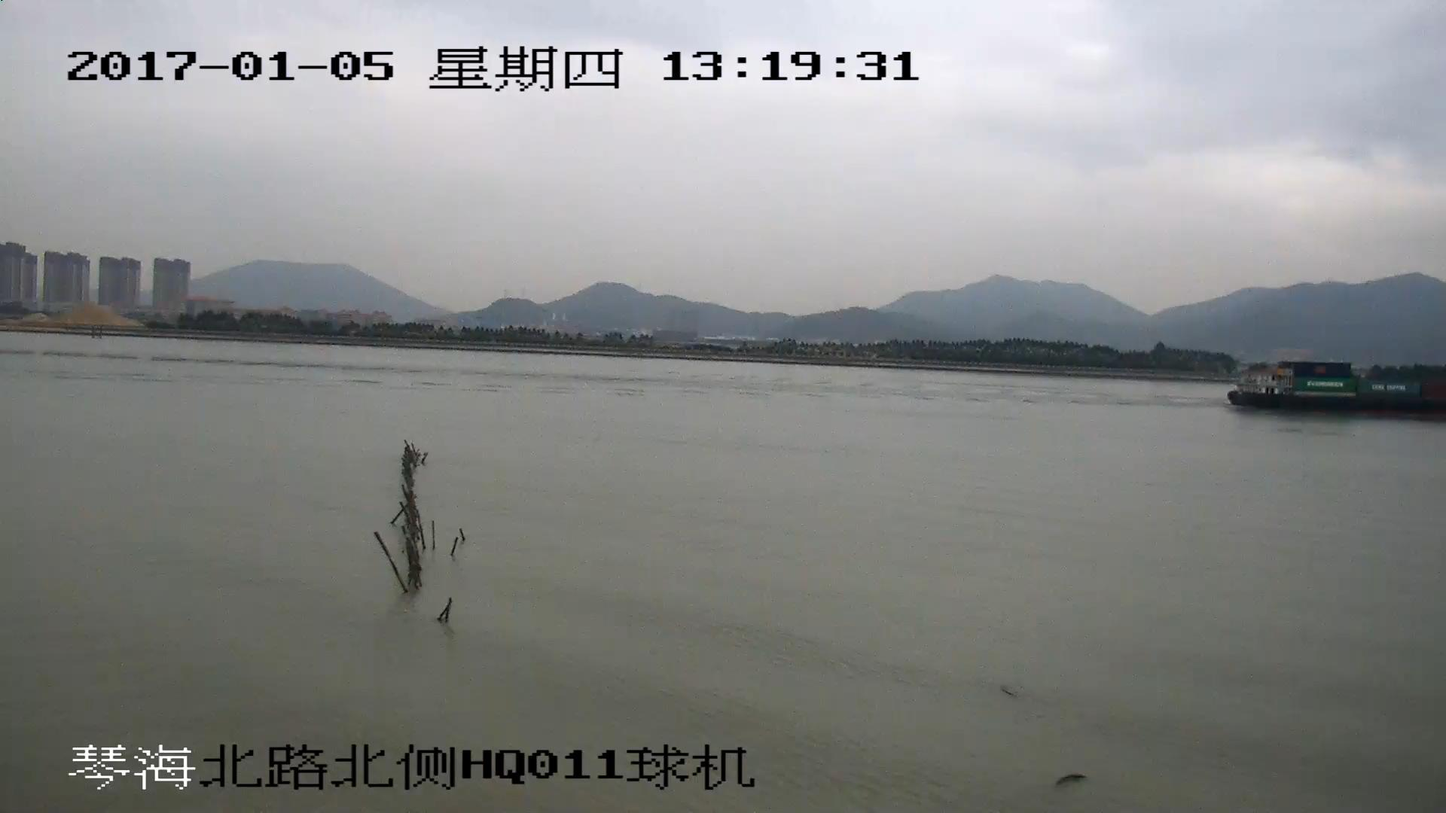container ship: (1223, 362, 1445, 411)
